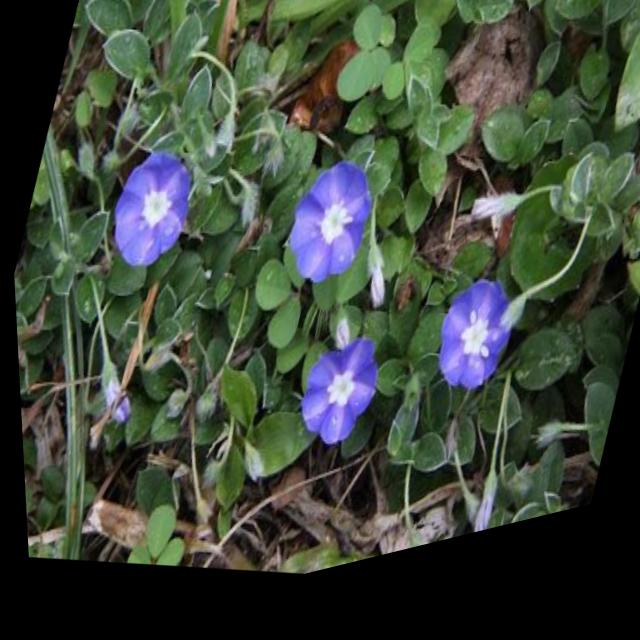Flower: (266, 157, 389, 320), (90, 139, 209, 298), (276, 329, 393, 487), (414, 274, 527, 430)
